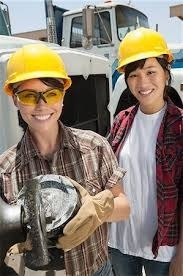helmet: (4, 41, 76, 91), (112, 25, 175, 74)
person with partial safety: (5, 42, 114, 273), (108, 26, 183, 272)
